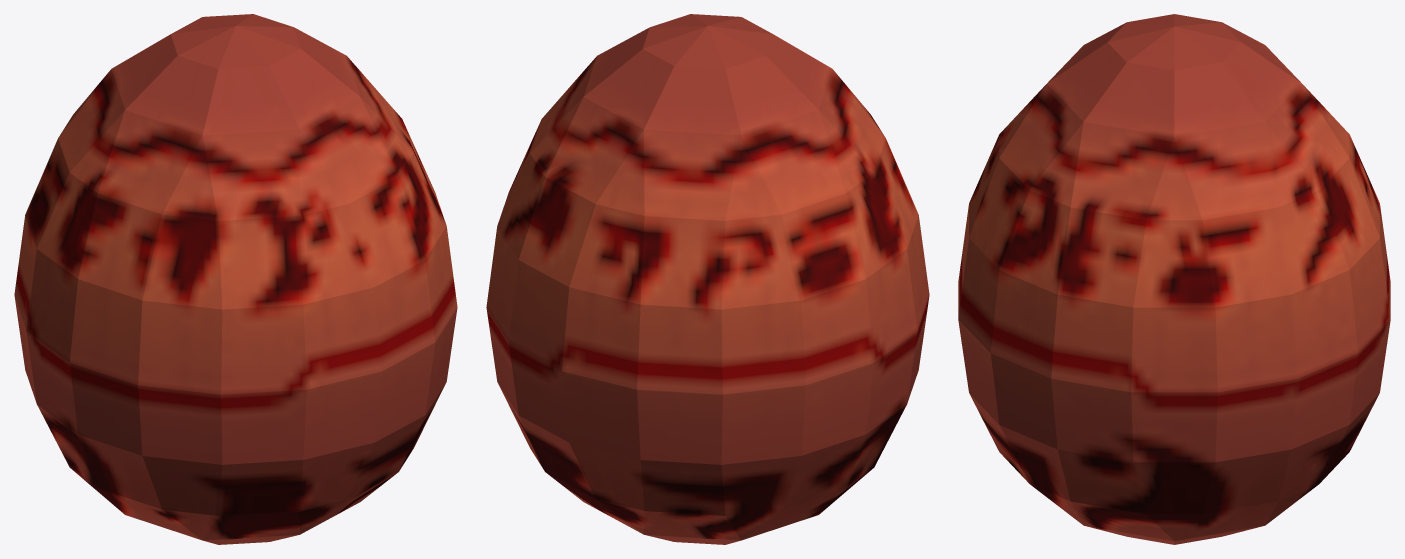
File: villa-starfish-lod0.glb
The picture shows the model from 3 angles, left to right: view 1: azimuth 30°, elevation 25°; view 2: azimuth 150°, elevation 25°; view 3: azimuth 270°, elevation 25°; orthographic projection.
Parts seen in each view (by area): view 1: money-lod0; view 2: money-lod0; view 3: money-lod0.
Boxes of the visible parts, bbox=[...] form: money-lod0: bbox=[14, 14, 457, 544]; money-lod0: bbox=[486, 14, 929, 544]; money-lod0: bbox=[958, 14, 1390, 544].
Bounding box in the file's own units: 0.8358 × 1.07 × 0.8358.
1 material, 1 textured.
